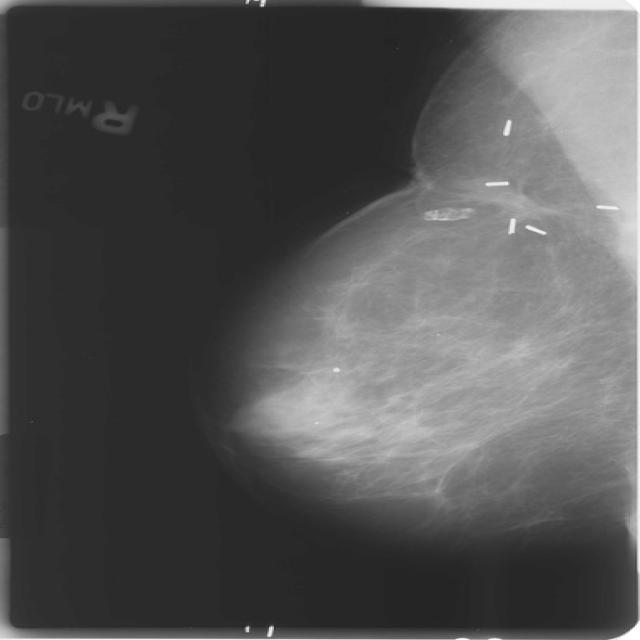tumour: (478, 179, 555, 219)
